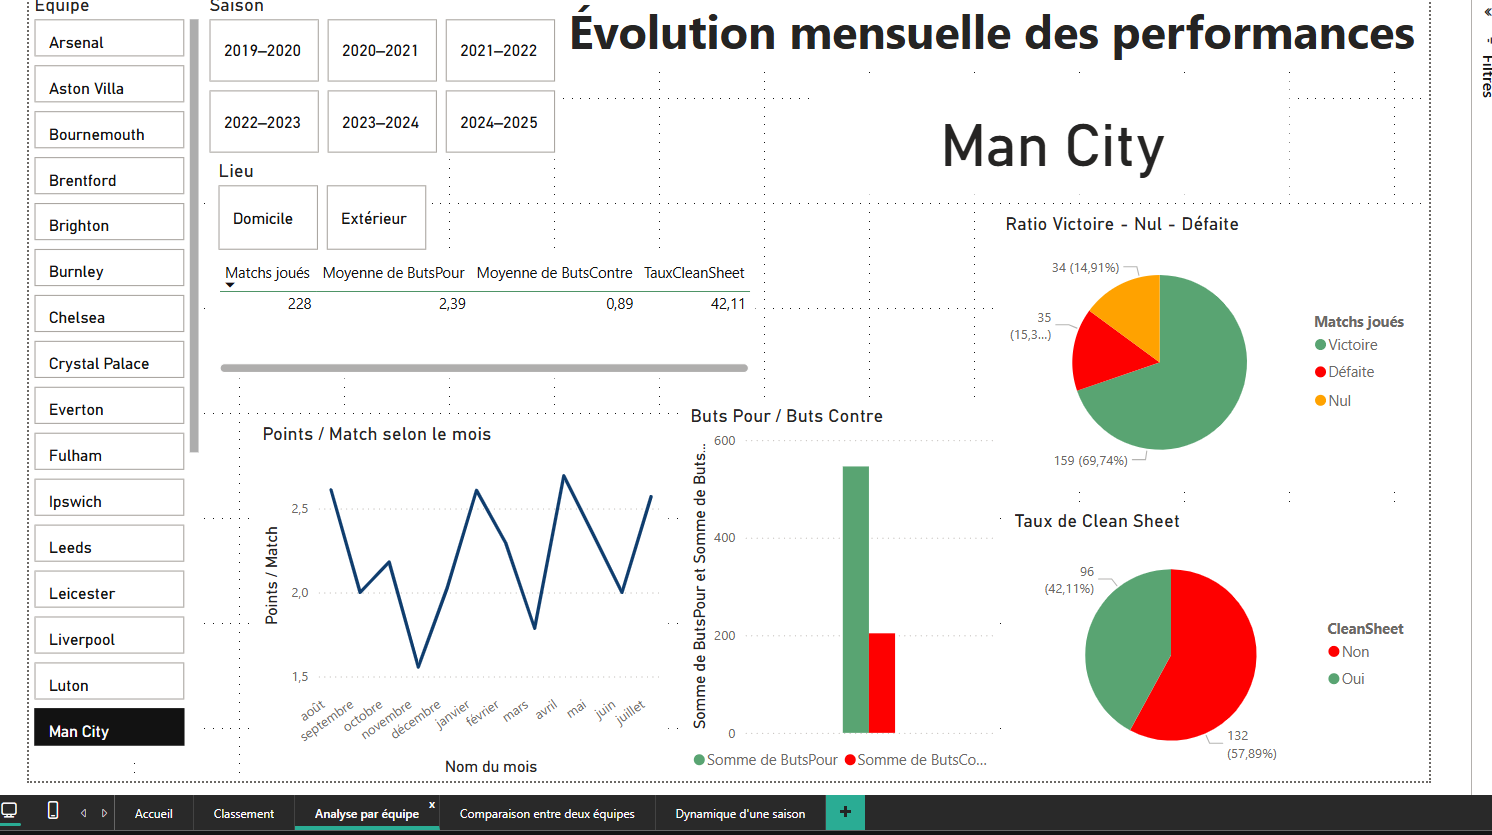

Layout of this report page (visuals, bound fields, positions):
{"tool":"powerbi","page":{"name":"Analyse par équipe","canvas":[1280,720],"ordinal":2},"visuals":[{"type":"advancedSlicerVisual","fields":{"Values":["PL23 (2).Équipe"]},"box":[0,0,160,704],"z":0},{"type":"pieChart","title":"Ratio Victoire - Nul - Défaite","fields":{"Y":["CountNonNull(PL23 (2).Matchs joués)"],"Category":["PL23 (2).Matchs joués"]},"box":[888,200,392,256],"z":1000},{"type":"pieChart","title":"Taux de Clean Sheet","fields":{"Category":["PL23 (2).CleanSheet"],"Y":["CountNonNull(PL23 (2).CleanSheet)"]},"box":[896,472,384,248],"z":2000},{"type":"clusteredColumnChart","title":"Buts Pour / Buts Contre","fields":{"Y":["Sum(PL23 (2).ButsPour)","Sum(PL23 (2).ButsContre)"]},"box":[600,376,288,344],"z":3000},{"type":"advancedSlicerVisual","fields":{"Values":["PL23 (2).Saison"]},"box":[160,0,328,152],"z":4000},{"type":"tableEx","fields":{"Values":["PL23 (2).Matchs joués","Avg(PL23 (2).ButsPour)","Avg(PL23 (2).ButsContre)","PL23 (2).TauxCleanSheet"]},"box":[168,240,496,112],"z":5000},{"type":"lineChart","title":"Points / Match selon le mois","fields":{"Category":["TableMoisOrdre.Nom du mois"],"Y":["PL23 (2).Points / Match"]},"box":[208,392,376,328],"z":6000},{"type":"textbox","box":[488,0,792,72],"z":7000},{"type":"advancedSlicerVisual","fields":{"Values":["PL23 (2).Lieu"]},"box":[168,152,200,88],"z":8000},{"type":"card","fields":{"Values":["PL23 (2).ÉquipeSélectionnée"]},"box":[720,80,432,104],"z":8001}]}

Visuals, with their boxes on the page's 1280x720 design canvas (x1, y1, x2, y2). These are canvas units, not pixel positions in the 1492x835 screenshot, which may show the page scaled, cropped or inside an application window:
advancedSlicerVisual - PL23 (2).Équipe: bbox(0, 0, 160, 704)
"Ratio Victoire - Nul - Défaite" pieChart: bbox(888, 200, 1280, 456)
"Taux de Clean Sheet" pieChart: bbox(896, 472, 1280, 720)
"Buts Pour / Buts Contre" clusteredColumnChart: bbox(600, 376, 888, 720)
advancedSlicerVisual - PL23 (2).Saison: bbox(160, 0, 488, 152)
tableEx - PL23 (2).Matchs joués x Avg(PL23 (2).ButsPour): bbox(168, 240, 664, 352)
"Points / Match selon le mois" lineChart: bbox(208, 392, 584, 720)
textbox: bbox(488, 0, 1280, 72)
advancedSlicerVisual - PL23 (2).Lieu: bbox(168, 152, 368, 240)
card - PL23 (2).ÉquipeSélectionnée: bbox(720, 80, 1152, 184)
